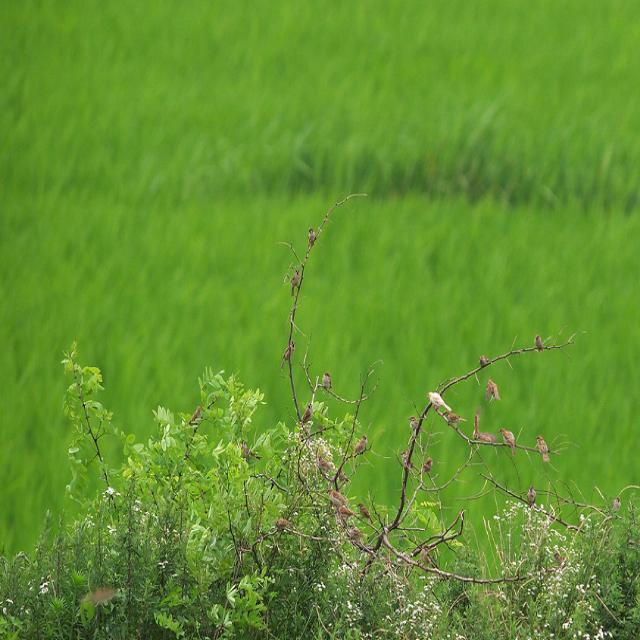bird: (470, 406, 495, 447), (286, 264, 303, 302), (278, 339, 297, 371), (533, 434, 551, 466), (305, 222, 321, 257), (352, 431, 371, 459), (300, 400, 316, 430), (500, 429, 517, 457), (326, 487, 348, 506), (485, 376, 501, 402), (323, 368, 334, 394), (534, 332, 546, 353)
